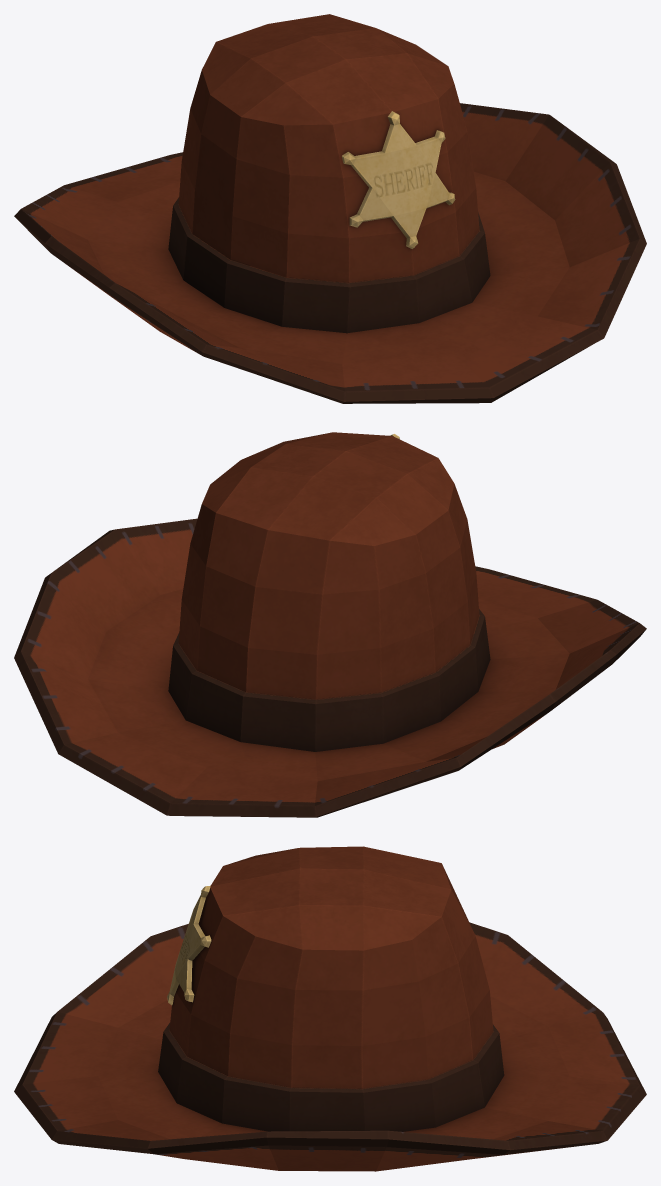
3 views of the same model, one above another, from view 1: azimuth 30°, elevation 25°; view 2: azimuth 150°, elevation 25°; view 3: azimuth 270°, elevation 25° (orthographic). The views are drawn at different scales.
Visible parts, largest first — view 1: SheriffHat_Mesh; view 2: SheriffHat_Mesh; view 3: SheriffHat_Mesh.
Part boxes in pixels (x1,y1,x2,y2): SheriffHat_Mesh: (14, 14, 646, 403); SheriffHat_Mesh: (14, 432, 646, 817); SheriffHat_Mesh: (14, 846, 646, 1171).
Size of the model in its own units: 3.61 by 1.61 by 4.01.
Materials: 1 (1 with a texture image).
